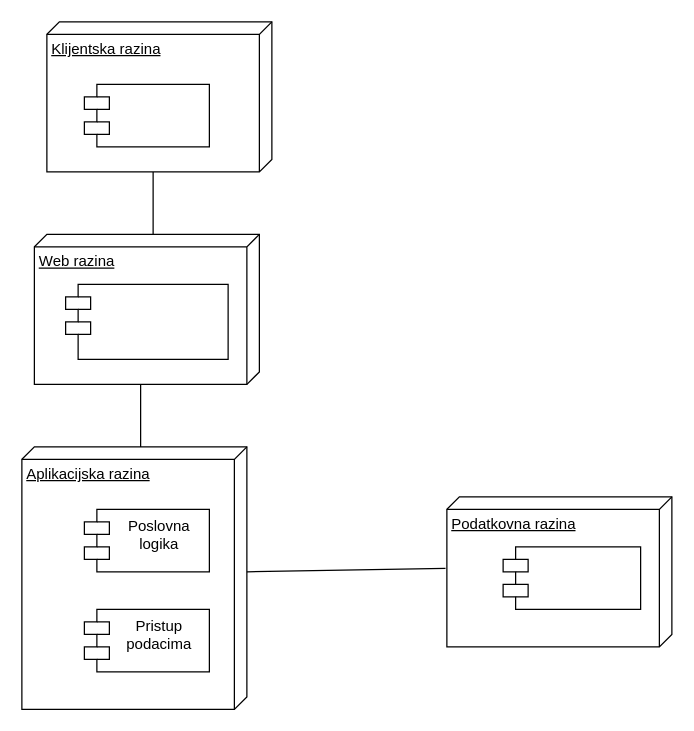
Image size: 694x731. Some labels were removed from this diagram. Here are the shapes that lost their labels. From the top down, the centre of each, then its label:
At point 146,115: "Mobitel Računalo".
At point 146,321: "Web aplikacija(backend i frontend)".
At point 571,577: "Baza podataka(SQL)".
